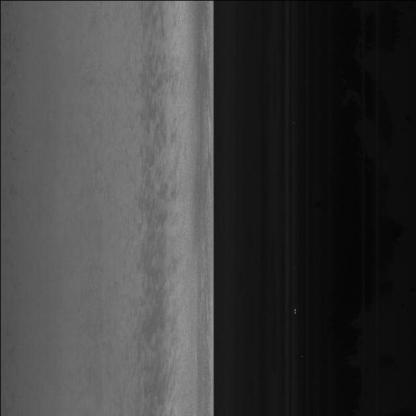silk_spot: (142, 162, 181, 277)
